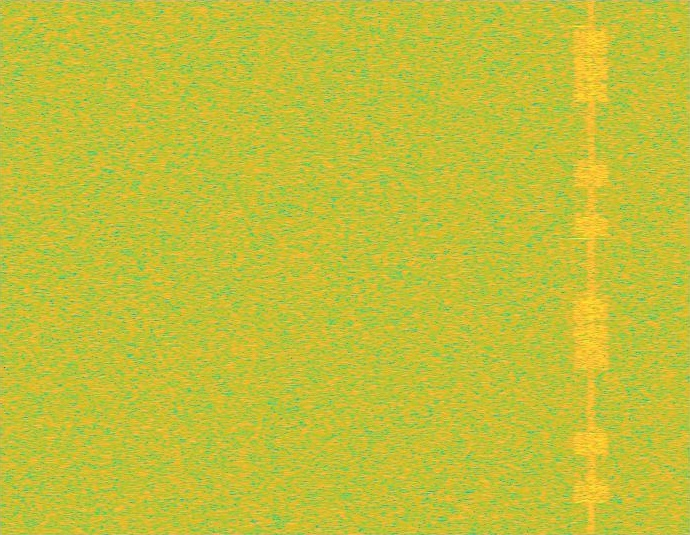DSSS: (587, 0, 595, 534)
LTE: (574, 0, 608, 534)
Radar: (574, 0, 587, 534)
